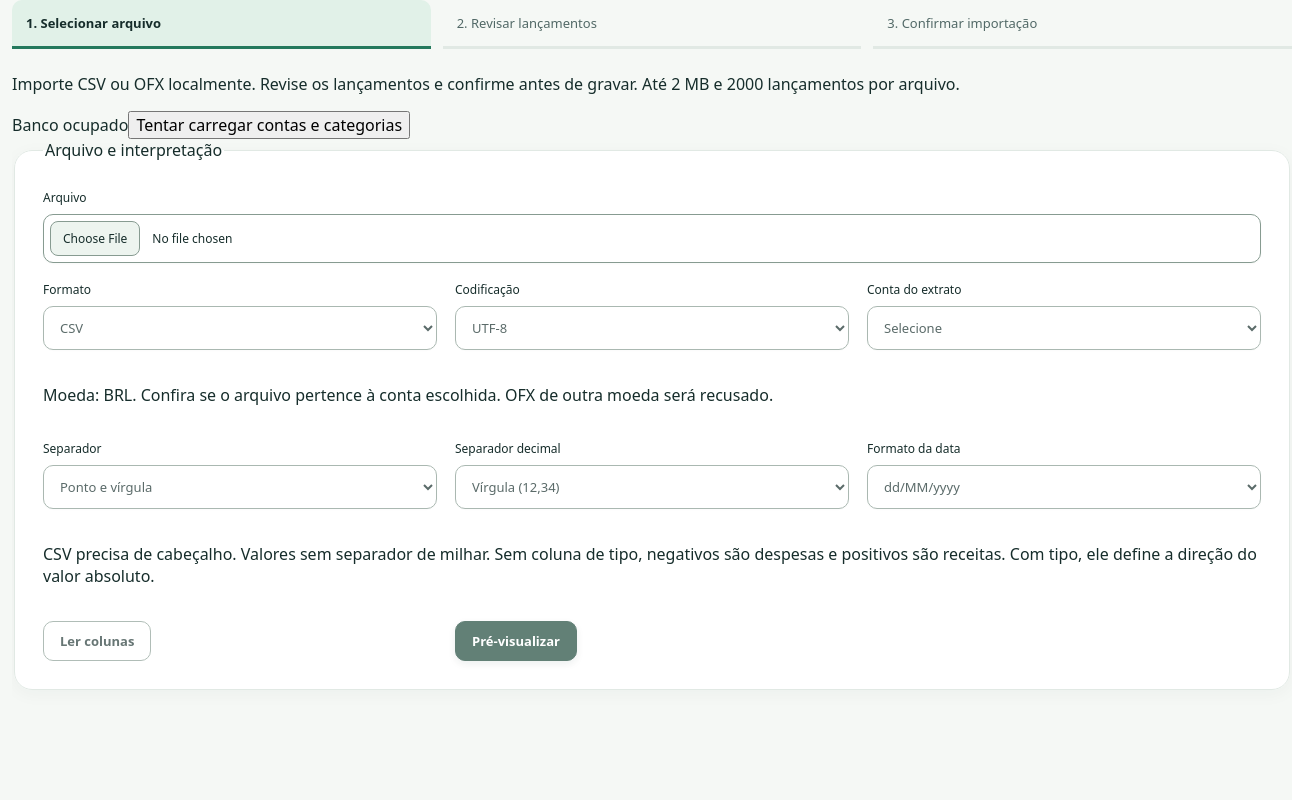
Test: permite repetir referências com falha e orienta quando não há contas
This screenshot has width=1292, height=800.
expect the text "Banco ocupado" is shown: met, box [12, 114, 128, 136]
Click the button "Tentar carregar contas e categorias": (269,125) [128, 111, 410, 139]
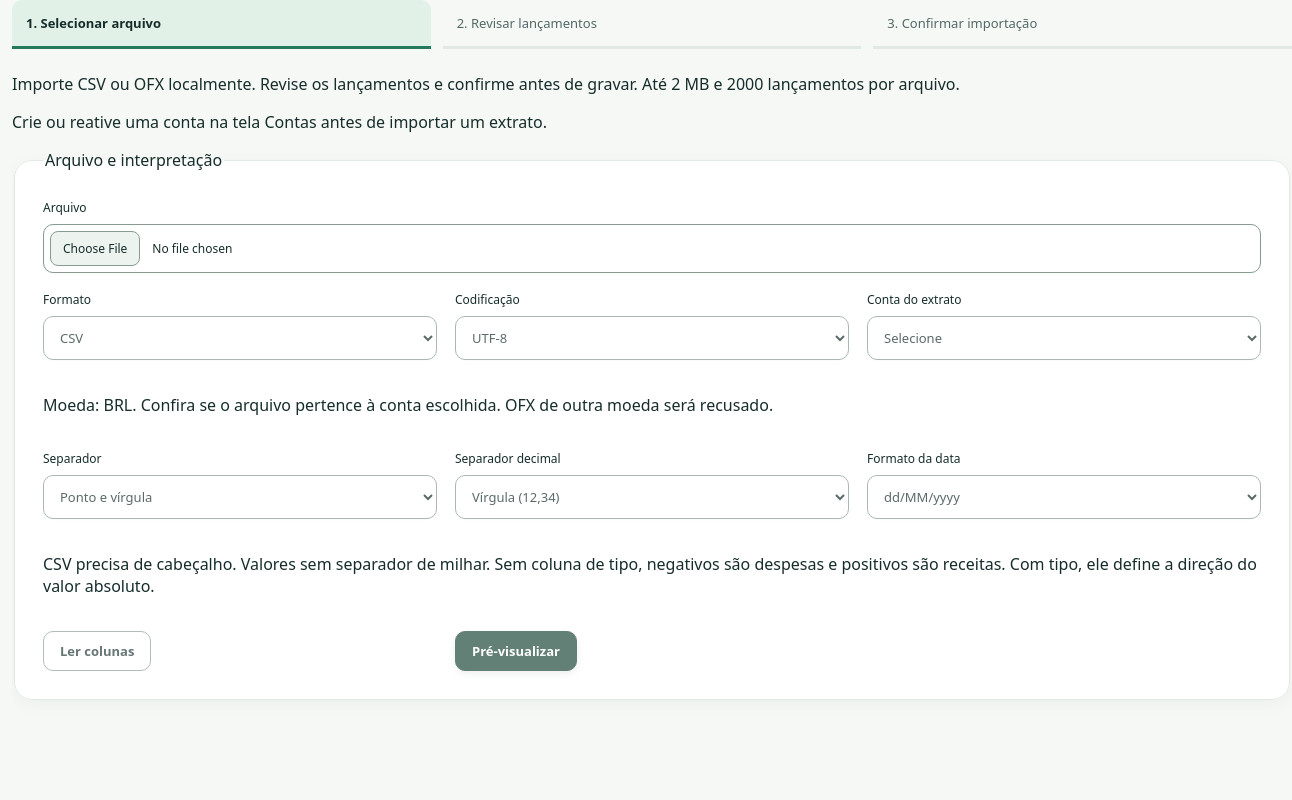
expect the text "Crie ou reative uma conta na tela Contas antes de importar um extrato." is shown: met, box [12, 111, 547, 133]
